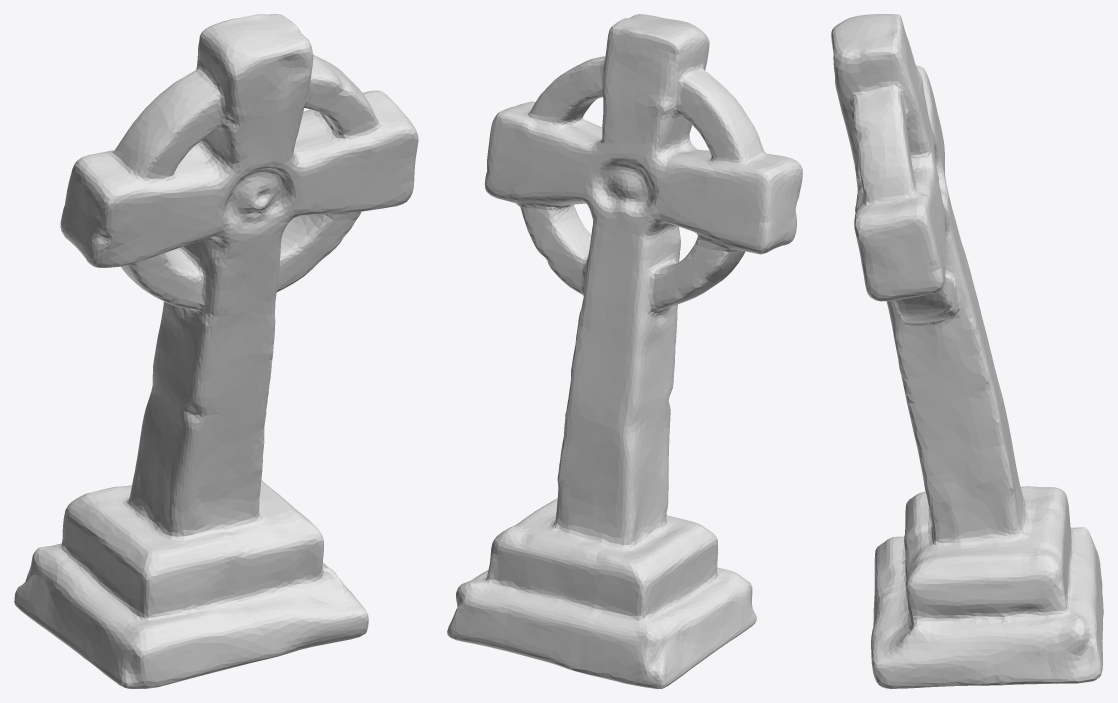
The model's file is tombstone02.glb.
The picture shows the model from 3 angles, left to right: view 1: azimuth 30°, elevation 25°; view 2: azimuth 150°, elevation 25°; view 3: azimuth 270°, elevation 25°; orthographic projection. The views are drawn at different scales.
Parts seen in each view (by area): view 1: Low; view 2: Low; view 3: Low.
Boxes of the visible parts, x1=… form: Low: x1=14, y1=14, x2=418, y2=688; Low: x1=447, y1=14, x2=802, y2=688; Low: x1=831, y1=14, x2=1103, y2=688.
Bounding box in the file's own units: 1.04 × 1.99 × 0.8067.
Materials: 1 (1 with a texture image).
